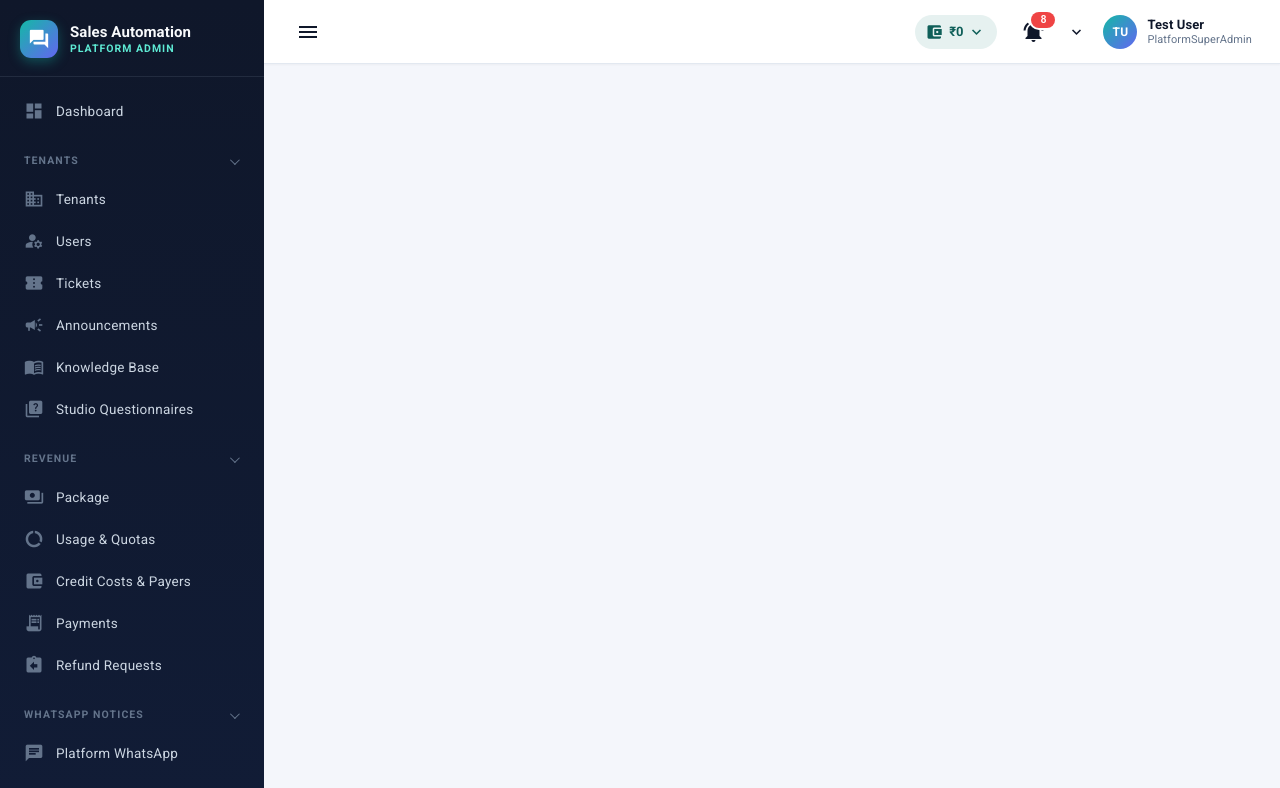
Test: ShellComponent sidenav › platform alerts bell › links "More notifications" to the full Notifications screen once the bell has more than it can show
Click the button named "Platform alerts" at (1033, 32), box [1009,8,1057,56]
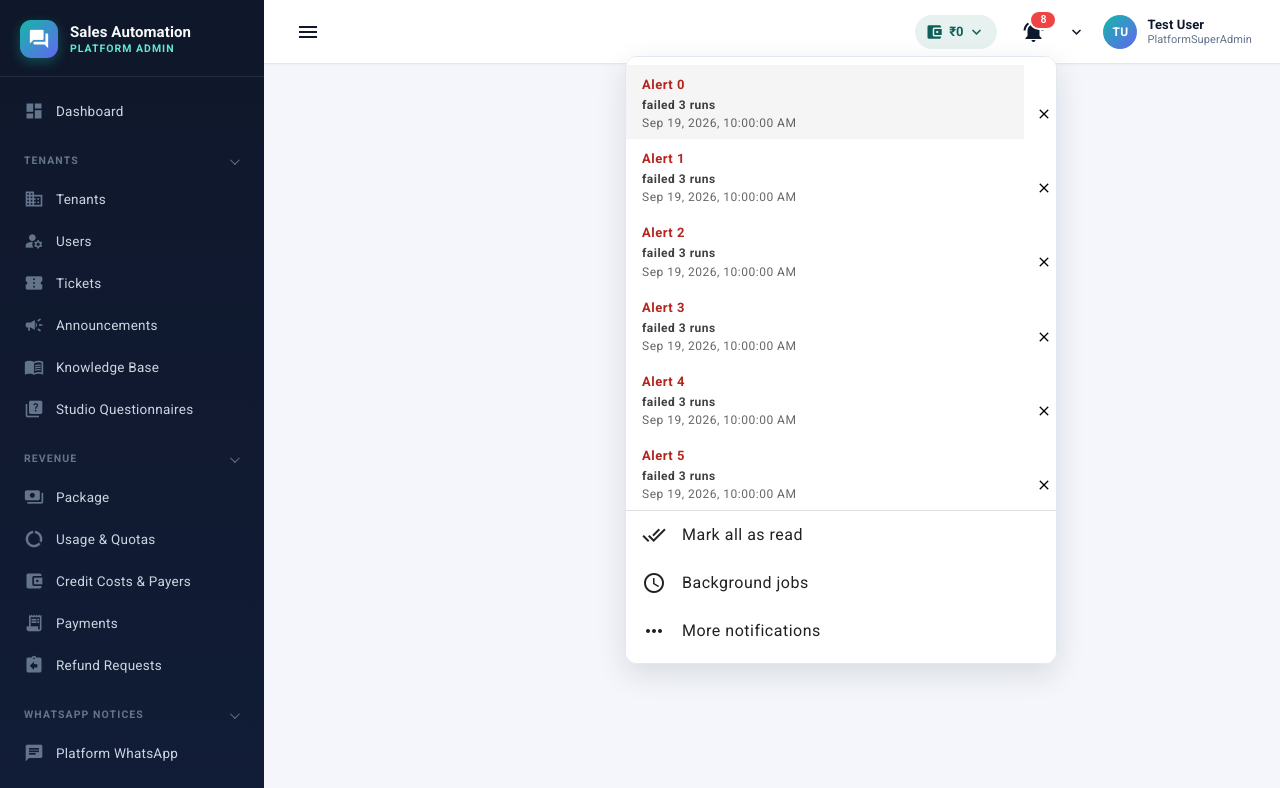
Expected: the menu item with class "more-notifications" reads "More notifications", [642,619,821,643]
Expected: the number of elements with class "alert-row" is 6, [626,64,1056,139]; [626,139,1056,213]; [626,213,1056,287]; [626,287,1056,361]; [626,361,1056,436]; [626,435,1056,510]
